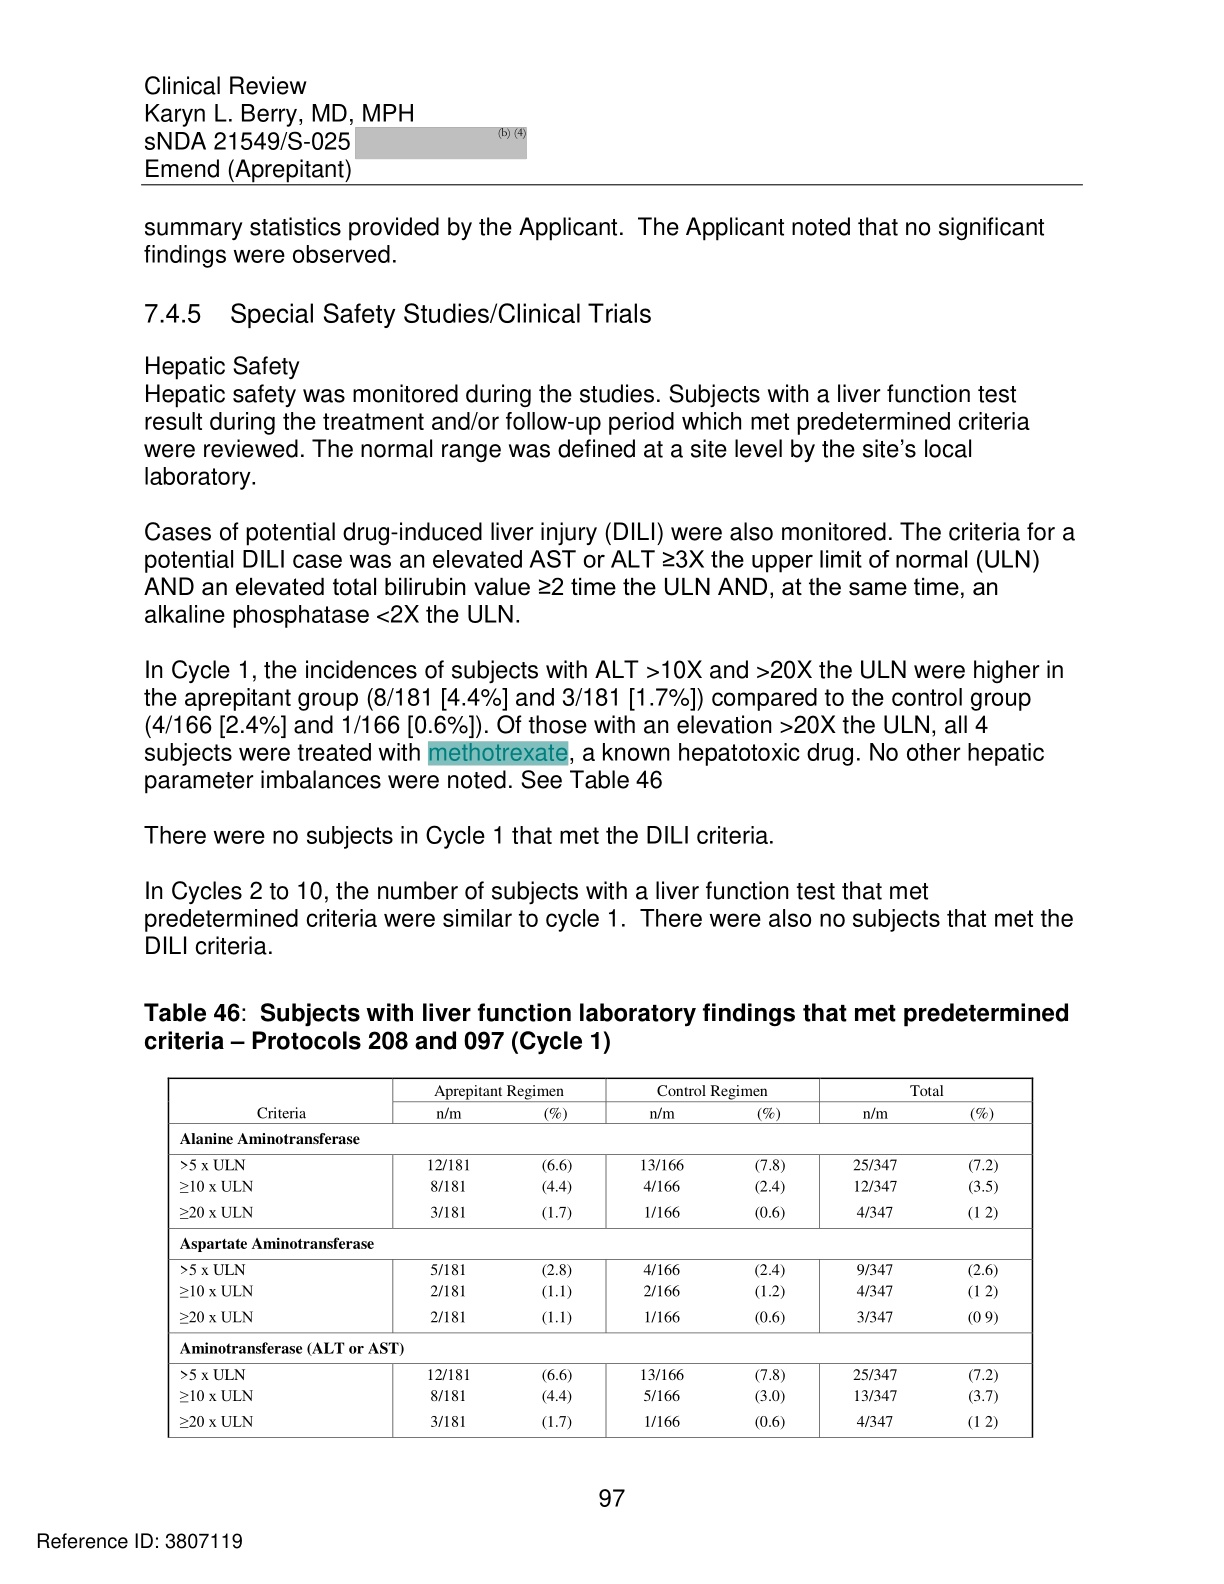merged_cells: (167, 1076, 1035, 1440)
